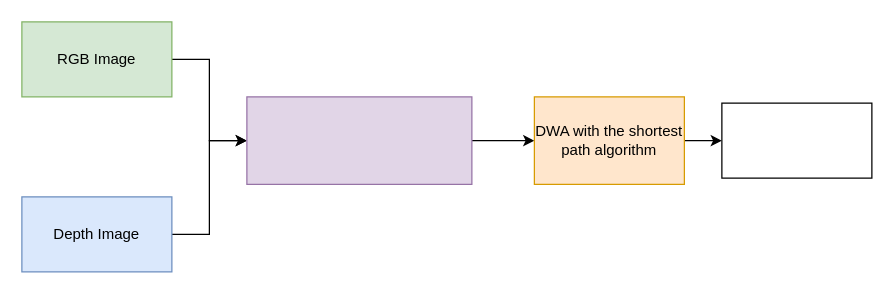
This 894x294 diagram has some shape labels left out. Here are the shapes that lost their labels. From the top down, the box of each, then its label:
(246, 96, 472, 184): Deep Learning Model for Object Detection
(721, 102, 872, 178): Final Path
